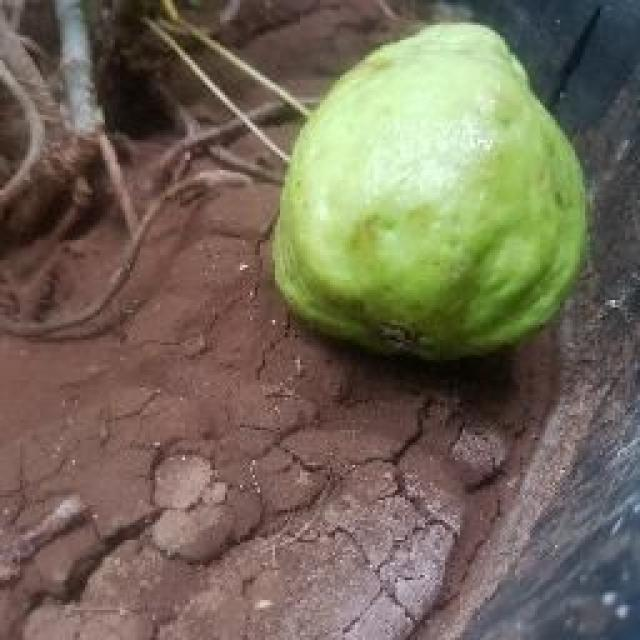Good_Guava: (272, 20, 588, 365)
